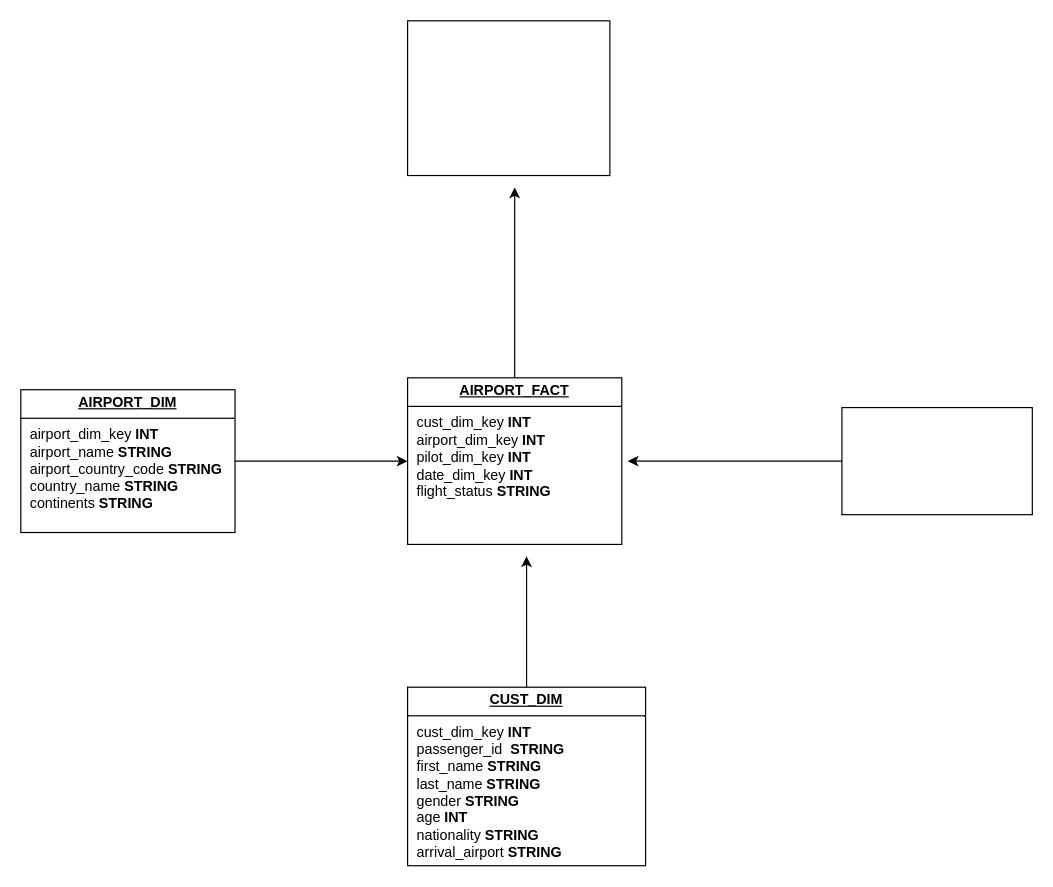
The diagram is 1053 pixels wide and 887 high, and some of its shapes have lost their labels. Each missing label, with the centre of its shape:
DATE_DIM date_dim_key INT departure_date DATE year YEAR month MONTH day DAY: (x=508, y=98)
PILOT_DIM pilot_dim_key INT pilot_name STRING: (x=936, y=460)
